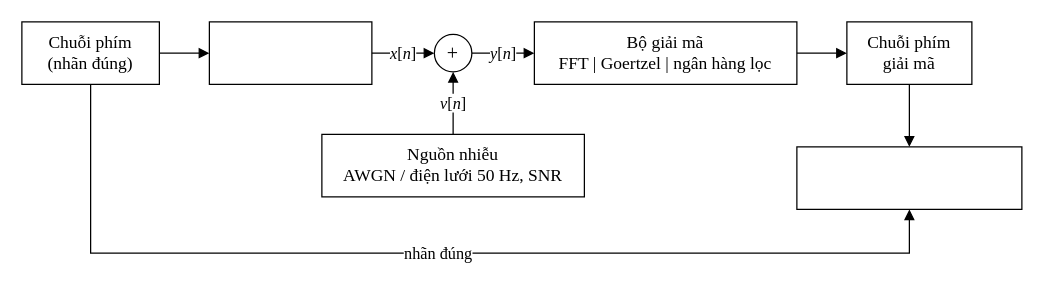
Image size: 1044x285. Some labels were removed from this diagram. The shapes that lost their labels are listed below. From the top down, each one's centre as x and y in pixels, then its label:
(290,52): Bộ phát DTMF (ITU-T Q.23/Q.24)
(909,177): Đánh giá: Levenshtein, ma trận nhầm lẫn
